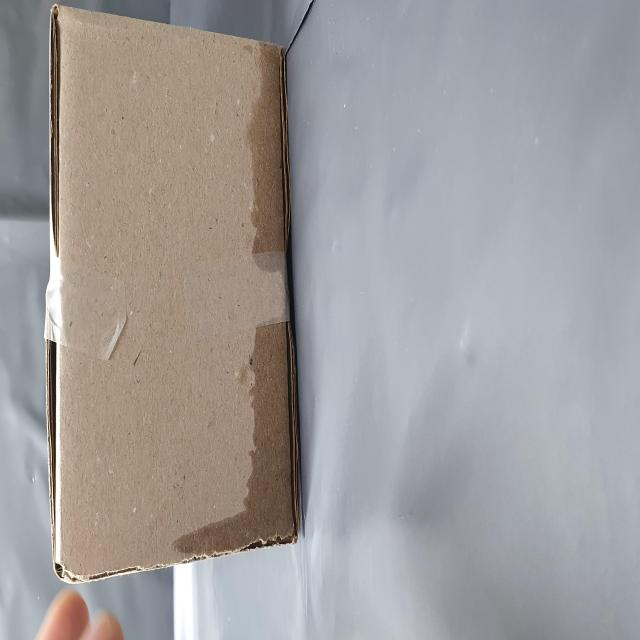wet: (48, 312, 180, 530), (215, 446, 336, 508)
